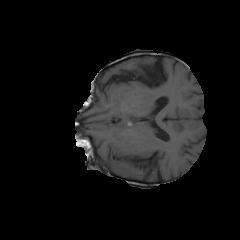glioma: (105, 141, 142, 178)
